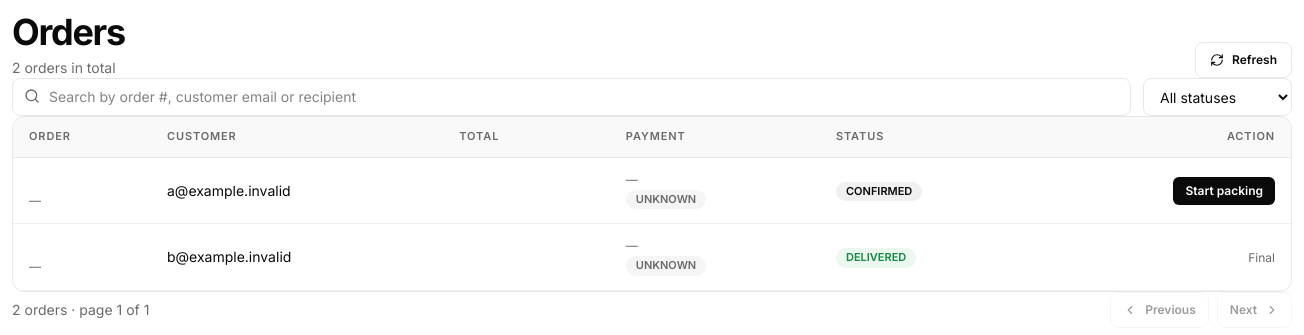
Test: admin orders › filters by status on the server
expect the text "a@example.invalid" is shown: met, box [151,157,443,224]
Step 1. Select "Delivered" in the dropdown named "Filter by status" → [1218, 97], box [1143,78,1292,116]
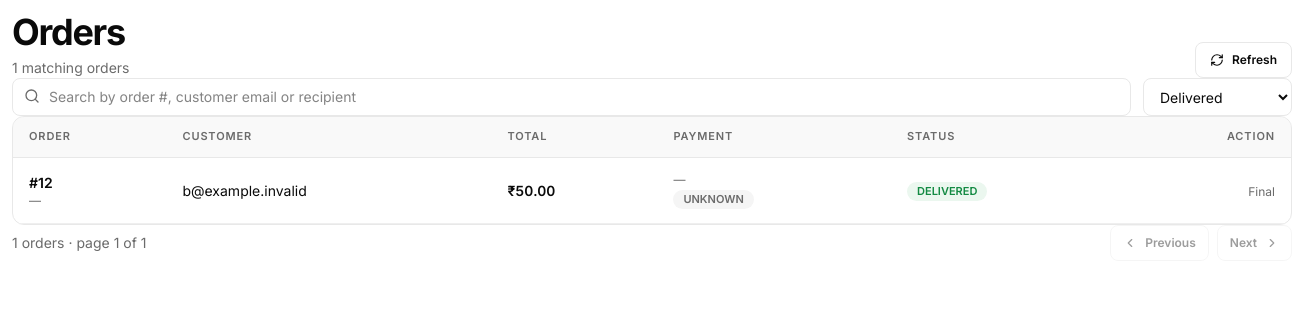
expect the text "Final" is shown: met, box [1248,184,1275,198]
expect the text "a@example.invalid" is gone: met
